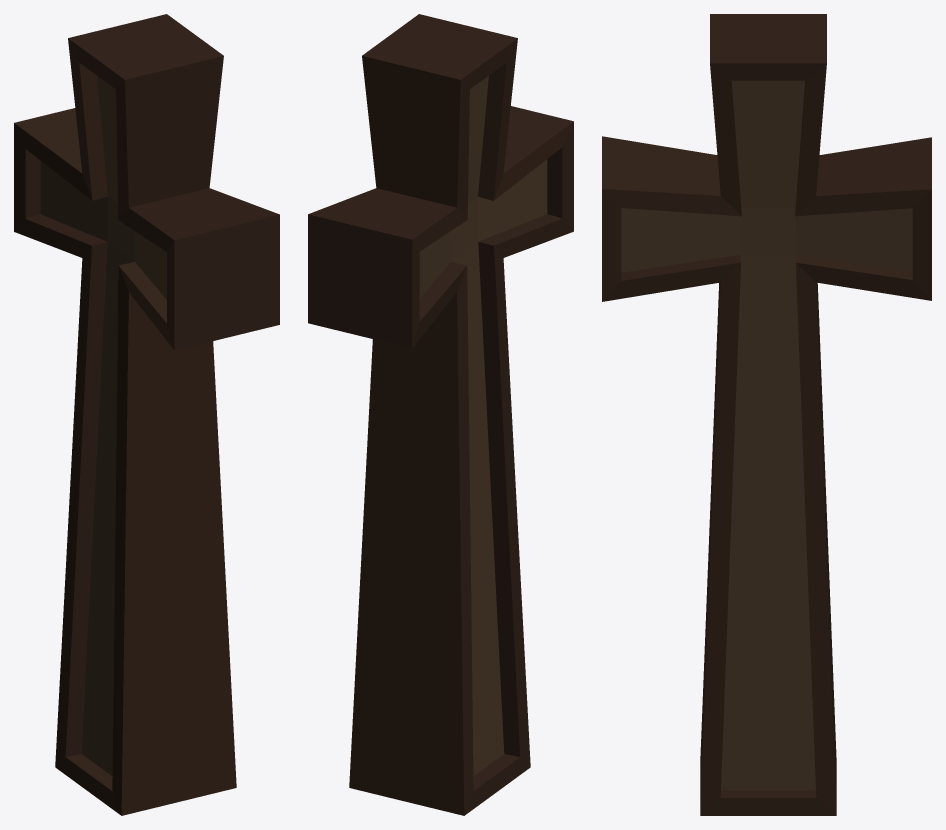
The model's file is Cross.fbx.
3 views of the same model, side by side, from view 1: azimuth 30°, elevation 25°; view 2: azimuth 150°, elevation 25°; view 3: azimuth 270°, elevation 25° (orthographic). The views are drawn at different scales.
Parts seen in each view (by area): view 1: Cube.003; view 2: Cube.003; view 3: Cube.003.
Boxes of the visible parts, x1,y1,x2,y2 form: Cube.003: (14, 14, 279, 815); Cube.003: (308, 14, 573, 815); Cube.003: (602, 14, 931, 815).
Size of the model in its own units: 102 by 617 by 246.
